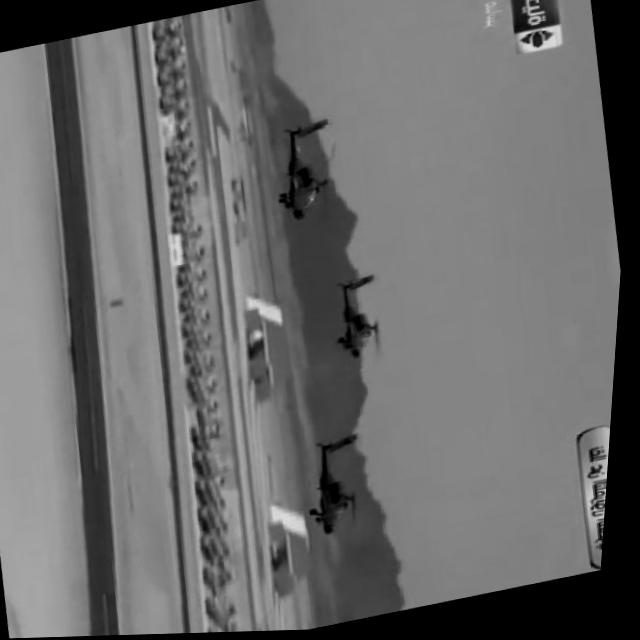helikopter: (238, 96, 371, 236), (295, 406, 408, 550), (311, 256, 421, 386)
